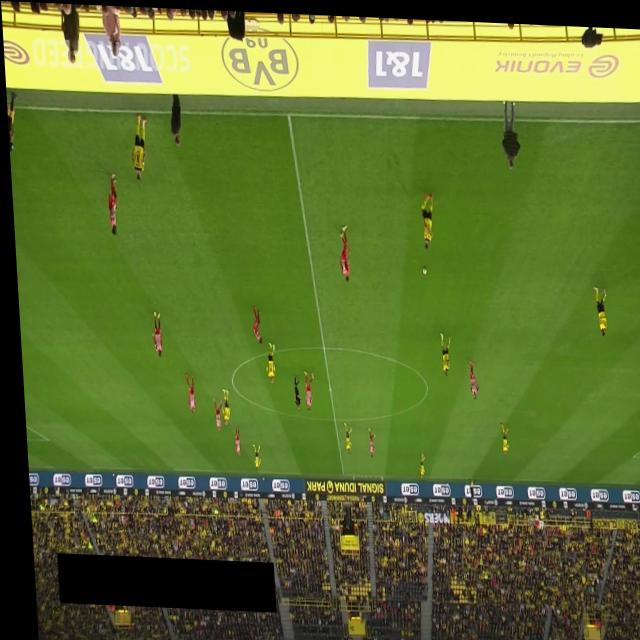player: (126, 112, 147, 181), (416, 188, 433, 245), (103, 172, 116, 235), (334, 220, 347, 279), (589, 280, 604, 331), (297, 366, 310, 409), (146, 309, 158, 355), (435, 327, 447, 373), (259, 338, 271, 380), (179, 371, 191, 412), (247, 303, 258, 341), (464, 355, 474, 394), (215, 387, 225, 423), (207, 396, 218, 428), (494, 418, 504, 452), (337, 419, 346, 451), (246, 440, 255, 469), (227, 423, 235, 454), (362, 424, 370, 454), (412, 449, 419, 475)
referee: (4, 90, 19, 151), (287, 372, 296, 408), (462, 474, 470, 498)
